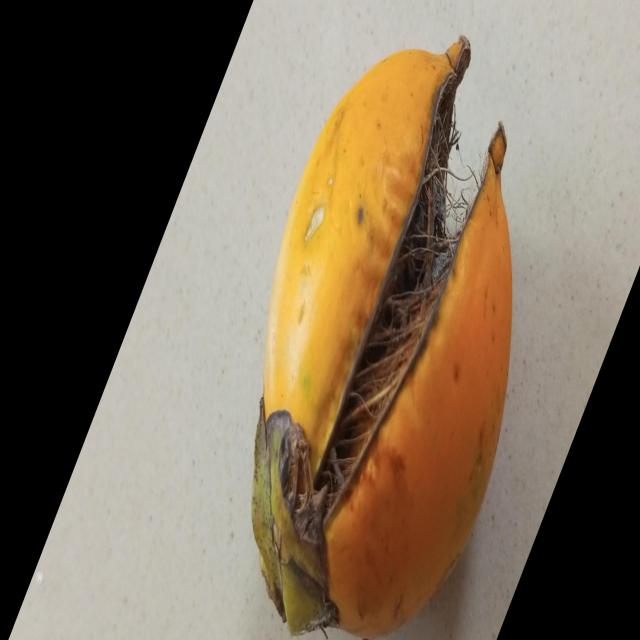damaged: (253, 37, 511, 634)
